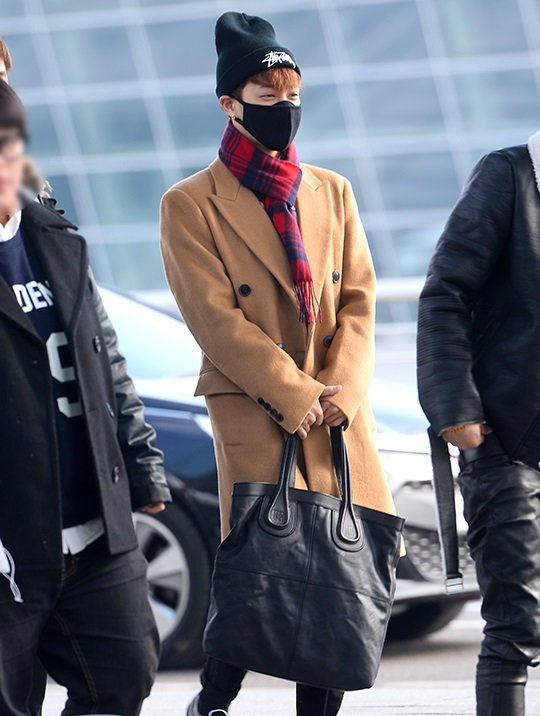face_mask: (243, 68, 300, 148)
